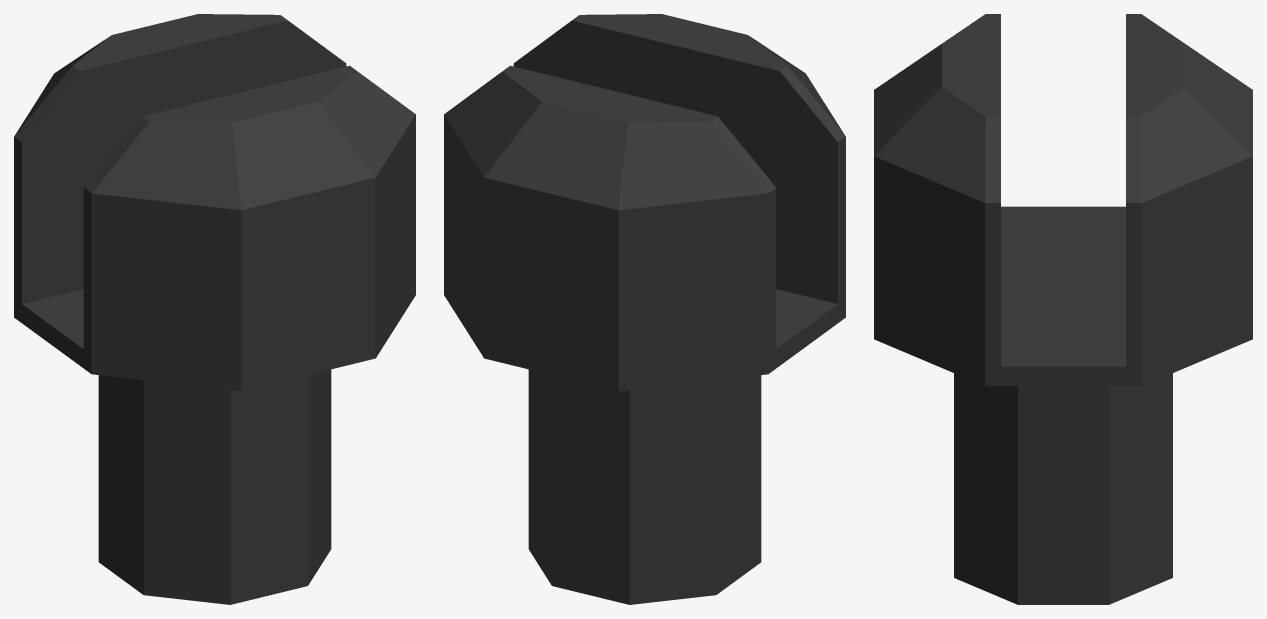
File: LMG4_04_3.fbx
3 views of the same model, side by side, from view 1: azimuth 30°, elevation 25°; view 2: azimuth 150°, elevation 25°; view 3: azimuth 270°, elevation 25° (orthographic).
Visible parts, largest first — view 1: LMG4_04_3; view 2: LMG4_04_3; view 3: LMG4_04_3.
Part boxes in pixels (x1,y1,x2,y2): LMG4_04_3: (14,14,415,604); LMG4_04_3: (444,14,845,604); LMG4_04_3: (874,14,1252,604).
Bounding box in the file's own units: 0.0161 × 0.0232 × 0.0161.
